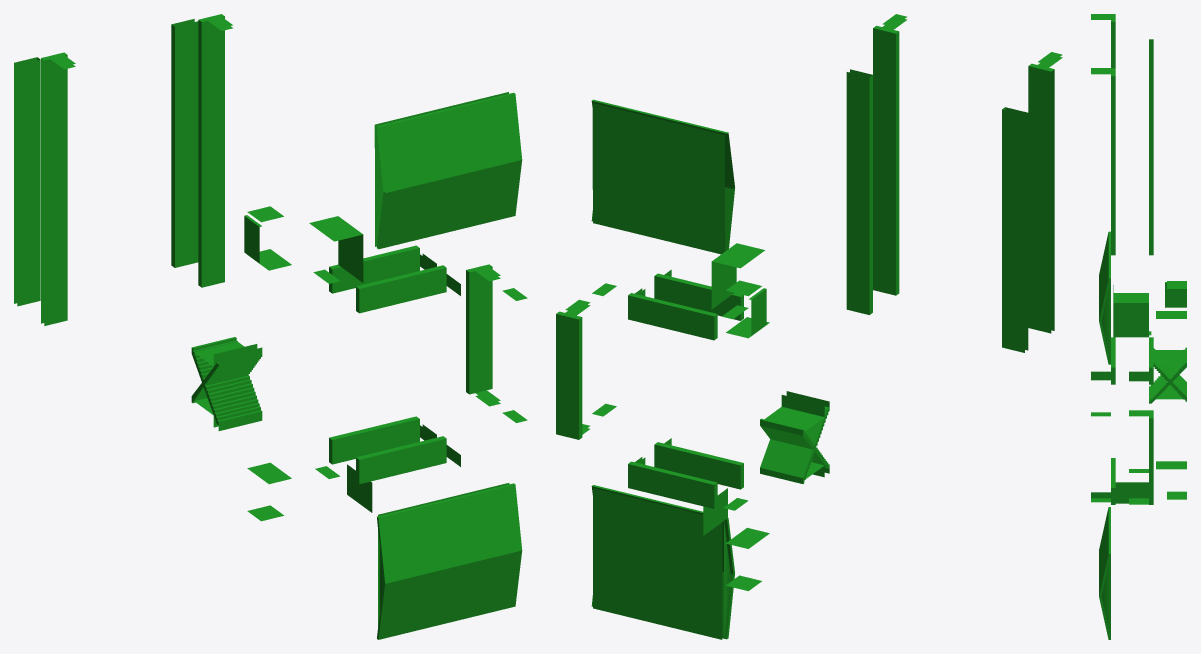
File: aucman_caps.obj
3 renders of one model, left to right at view 1: azimuth 30°, elevation 25°; view 2: azimuth 150°, elevation 25°; view 3: azimuth 270°, elevation 25°, orthographic. The views are drawn at different scales.
Parts seen in each view (by area): view 1: g_skylight_right_cover, g_skylight_left_cover, g_catwalk_cars_front, g_catwalk_cars_back, g_catwalk_left, g_catwalk_right, g_catwalk_main, g_stairway_main2, g_stairway_main1, g_path_high1_cover, g_path_low1_cover, g_path_high2_cover (+1 smaller); view 2: g_skylight_right_cover, g_skylight_left_cover, g_catwalk_cars_front, g_catwalk_cars_back, g_catwalk_left, g_catwalk_right, g_stairway_main1, g_catwalk_main, g_path_high1_cover, g_stairway_main2, g_path_low1_cover, g_path_low2_cover (+1 smaller); view 3: g_catwalk_cars_front, g_path_high1_cover, g_skylight_right_cover, g_skylight_left_cover, g_stairway_main1, g_path_low1_cover, g_stairway_main2, g_path_high2_cover, g_catwalk_right_cover, g_catwalk_cars_back, g_catwalk_right, g_catwalk_main (+4 smaller).
Part boxes in pixels (x1=…): g_skylight_right_cover: x1=374, y1=92, x2=522, y2=249; g_skylight_left_cover: x1=377, y1=483, x2=522, y2=639; g_catwalk_cars_front: x1=171, y1=14, x2=224, y2=287; g_catwalk_cars_back: x1=14, y1=52, x2=67, y2=325; g_catwalk_left: x1=329, y1=416, x2=446, y2=484; g_catwalk_right: x1=329, y1=245, x2=446, y2=313; g_catwalk_main: x1=466, y1=264, x2=492, y2=394; g_stairway_main2: x1=191, y1=337, x2=262, y2=430; g_stairway_main1: x1=191, y1=342, x2=262, y2=403; g_path_high1_cover: x1=309, y1=216, x2=363, y2=283; g_path_low1_cover: x1=244, y1=206, x2=291, y2=270; g_path_high2_cover: x1=315, y1=464, x2=372, y2=512; g_skylight_right_cover: x1=591, y1=99, x2=734, y2=254; g_skylight_left_cover: x1=591, y1=485, x2=734, y2=639; g_catwalk_cars_front: x1=846, y1=25, x2=899, y2=314; g_catwalk_cars_back: x1=1002, y1=63, x2=1054, y2=352; g_catwalk_left: x1=628, y1=442, x2=743, y2=508; g_catwalk_right: x1=628, y1=273, x2=743, y2=340; g_stairway_main1: x1=760, y1=391, x2=829, y2=483; g_catwalk_main: x1=556, y1=311, x2=582, y2=439; g_path_high1_cover: x1=711, y1=243, x2=764, y2=319; g_stairway_main2: x1=760, y1=418, x2=829, y2=478; g_path_low1_cover: x1=726, y1=280, x2=769, y2=338; g_path_low2_cover: x1=726, y1=527, x2=769, y2=591; g_catwalk_cars_front: x1=1111, y1=68, x2=1153, y2=255; g_path_high1_cover: x1=1113, y1=293, x2=1151, y2=337; g_skylight_right_cover: x1=1099, y1=231, x2=1113, y2=364; g_skylight_left_cover: x1=1099, y1=507, x2=1110, y2=639; g_stairway_main1: x1=1153, y1=348, x2=1186, y2=401; g_path_low1_cover: x1=1156, y1=281, x2=1186, y2=318; g_stairway_main2: x1=1149, y1=347, x2=1186, y2=403; g_path_high2_cover: x1=1115, y1=469, x2=1148, y2=503; g_catwalk_right_cover: x1=1091, y1=371, x2=1148, y2=416; g_catwalk_cars_back: x1=1111, y1=14, x2=1153, y2=85; g_catwalk_right: x1=1111, y1=337, x2=1153, y2=384; g_catwalk_main: x1=1149, y1=410, x2=1153, y2=504.
Size of what is drawn, in the model's own units: 4075 by 5425 by 1011.
